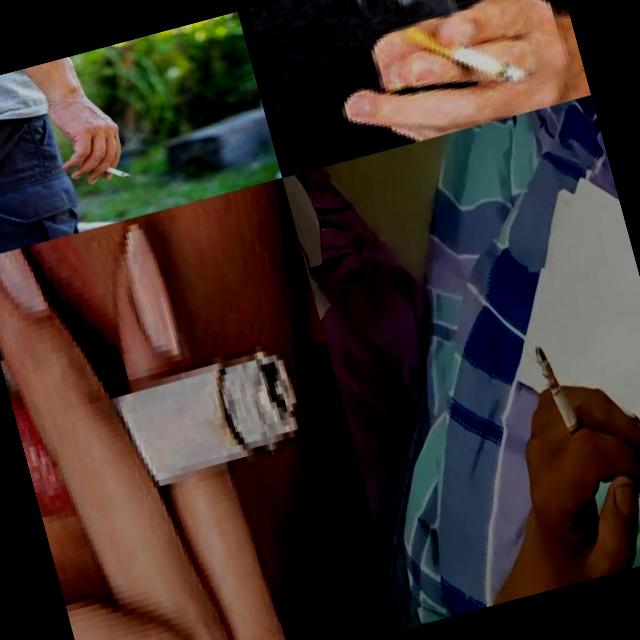smoke: (41, 338, 312, 511), (401, 0, 527, 106), (531, 339, 590, 456), (100, 160, 132, 184)
